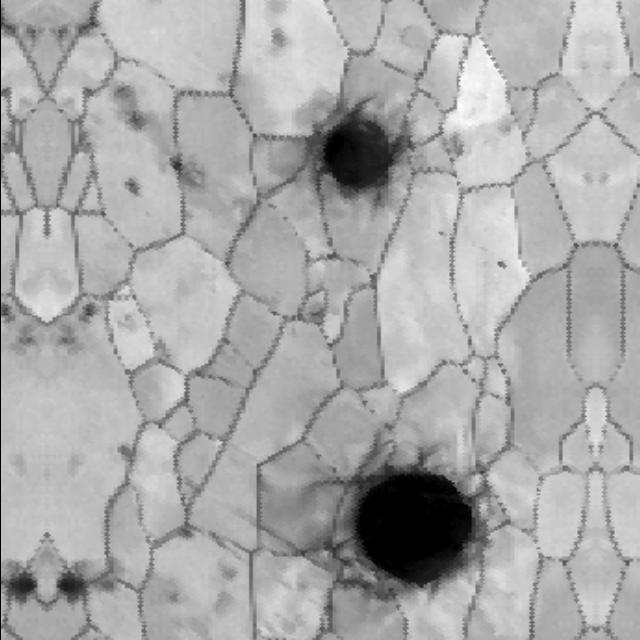good_void: (308, 445, 488, 604), (305, 94, 409, 211), (52, 556, 124, 607), (108, 80, 157, 135), (0, 558, 38, 607), (49, 321, 83, 356), (7, 321, 41, 356), (300, 299, 331, 331), (145, 333, 172, 369), (255, 25, 287, 53), (441, 131, 466, 165), (72, 299, 102, 323), (47, 23, 72, 49), (18, 23, 43, 49), (72, 13, 99, 36), (165, 157, 188, 181), (490, 116, 512, 141), (121, 178, 137, 206), (0, 299, 18, 323), (112, 445, 133, 465), (0, 13, 18, 36), (487, 255, 508, 274), (430, 224, 444, 244)
